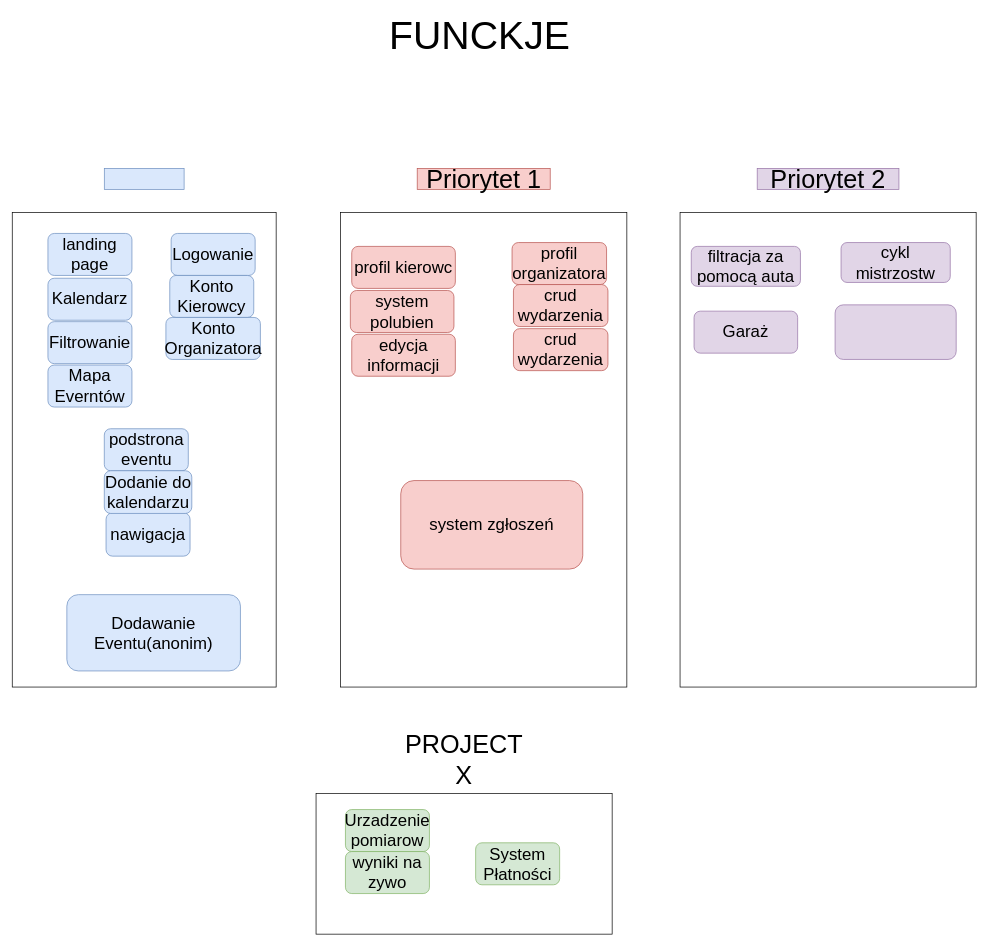
This 988x946 diagram has some shape labels left out. Here are the shapes that lost their labels. From the top down, the centre of each, then its label:
point (144, 178): MVP
point (895, 331): tabela wyników wydarzenia
